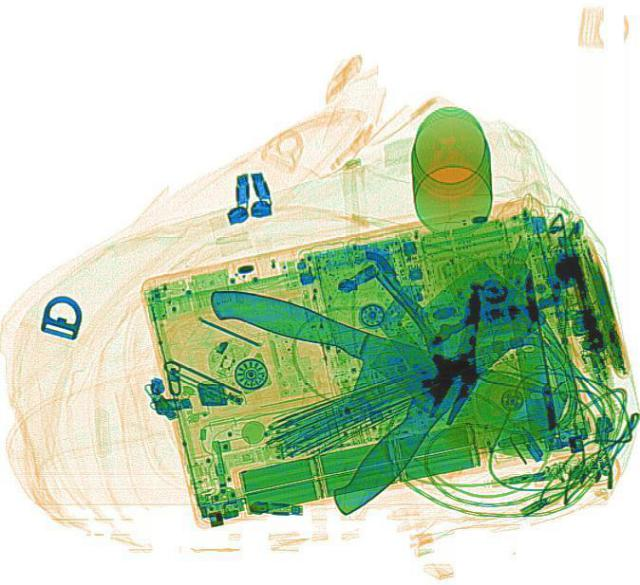Knife: (274, 258, 554, 519), (182, 279, 572, 464)
